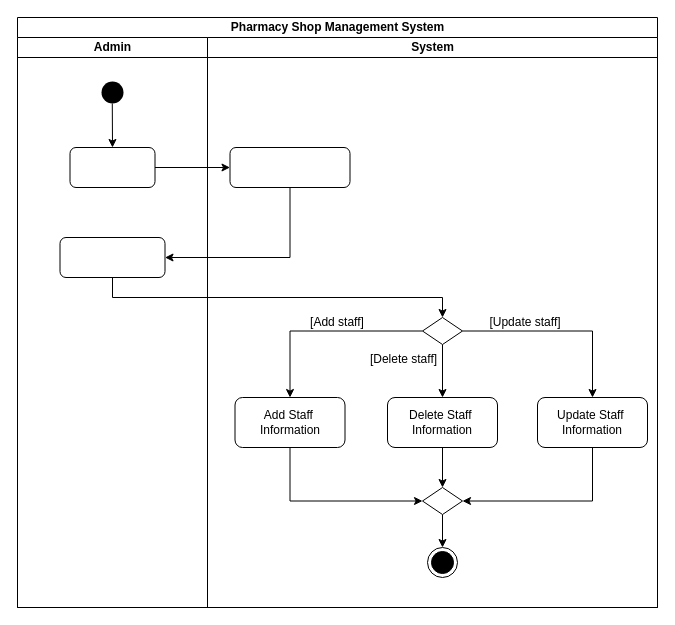
Some shapes in this 675 by 625 pixel diagram are drawn without their labels. The shapes that lost their labels are listed below. From the top down, each one's centre as x and y in pixels, then its label:
the point at 112,167: Click Staff Button
the point at 289,167: Display Staff information & options
the point at 112,257: select option
